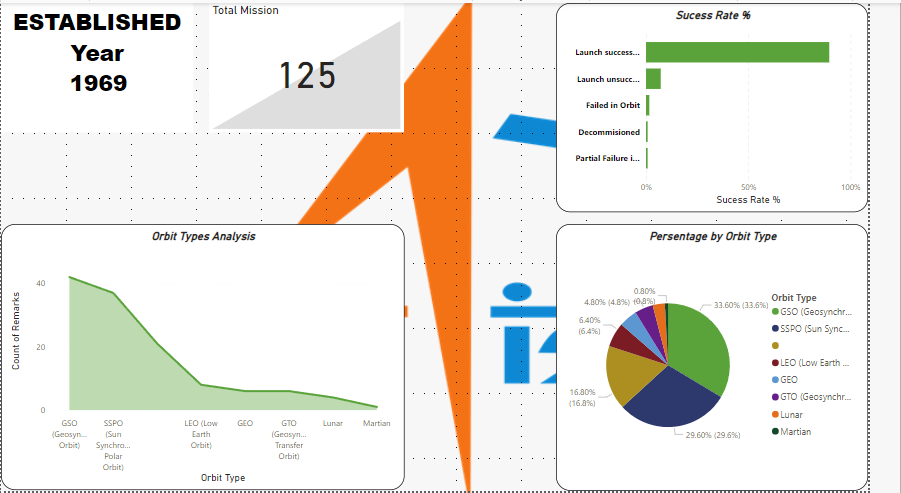

This screenshot's page, from the dashboard's own definition file:
{"tool":"powerbi","page":{"name":"Page 1","canvas":[1280,720],"ordinal":0},"visuals":[{"type":"kpi","title":"Total Mission ","fields":{"TrendLine":["ISRO mission launches.SL No"],"Indicator":["Sum(ISRO mission launches.SL No)"]},"box":[307.5,0,288.1,191],"z":0},{"type":"pieChart","fields":{"Y":["ISRO mission launches.Persentage"],"Category":["ISRO mission launches.Orbit Type"]},"box":[819.4,326.9,461.2,394],"z":1000},{"type":"textbox","box":[0,0,283.6,190.5],"z":2000},{"type":"clusteredBarChart","title":"Sucess Rate % ","fields":{"Category":["ISRO mission launches.Remarks"],"Y":["ISRO mission launches.per 2"]},"box":[819.4,0,461.2,309],"z":3000},{"type":"areaChart","title":"Orbit Types Analysis","fields":{"Y":["CountNonNull(ISRO mission launches.Remarks)"],"Category":["ISRO mission launches.Orbit Type"]},"box":[0,326.9,595.5,392.5],"z":4000}]}

Visuals, with their boxes in screenshot pixels (x1, y1, x2, y2), scaled from the page's 1280x720 canvas onto the 901x493 screenshot:
"Total Mission " kpi: l=216, t=0, r=419, b=131
pieChart - ISRO mission launches.Persentage x ISRO mission launches.Orbit Type: l=577, t=224, r=900, b=492
textbox: l=0, t=0, r=200, b=130
"Sucess Rate % " clusteredBarChart: l=577, t=0, r=900, b=212
"Orbit Types Analysis" areaChart: l=0, t=224, r=419, b=492
